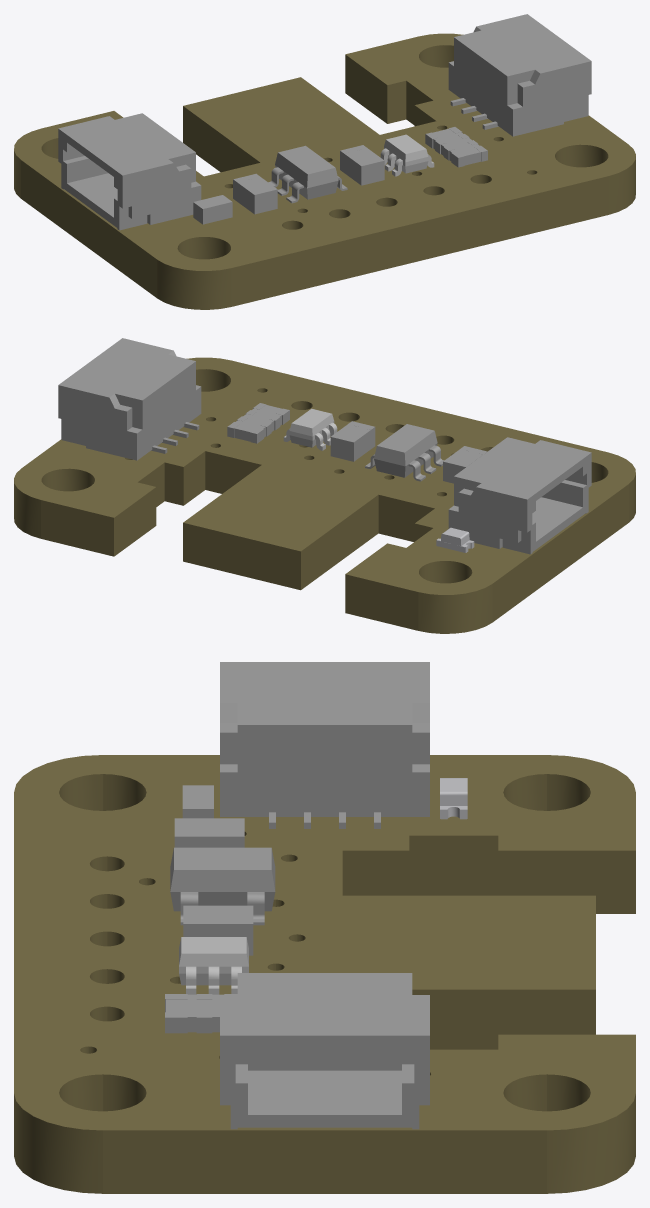
File: ada-4836.glb
3 views of the same model, one above another, from view 1: azimuth 30°, elevation 25°; view 2: azimuth 150°, elevation 25°; view 3: azimuth 270°, elevation 25° (orthographic). The views are drawn at different scales.
Visible parts, largest first — view 1: 0.16666666666666666_0.16666666666666666_0.08333333333333333_, 0.3333333333333333_0.3333333333333333_0.3333333333333333_0, 0.5_0.5_0.5_0.85; view 2: 0.16666666666666666_0.16666666666666666_0.08333333333333333_, 0.3333333333333333_0.3333333333333333_0.3333333333333333_0, 0.5_0.5_0.5_0.85, 0.5833333333333334_0.5833333333333334_0.5833333333333334_0.8; view 3: 0.16666666666666666_0.16666666666666666_0.08333333333333333_, 0.3333333333333333_0.3333333333333333_0.3333333333333333_0, 0.5_0.5_0.5_0.85, 0.5833333333333334_0.5833333333333334_0.5833333333333334_0.8.
Part boxes in pixels (<box>): 0.16666666666666666_0.16666666666666666_0.08333333333333333_: <box>14,33,635,309</box>; 0.3333333333333333_0.3333333333333333_0.3333333333333333_0: <box>58,14,591,230</box>; 0.5_0.5_0.5_0.85: <box>380,134,434,176</box>; 0.16666666666666666_0.16666666666666666_0.08333333333333333_: <box>14,357,635,633</box>; 0.3333333333333333_0.3333333333333333_0.3333333333333333_0: <box>58,338,591,554</box>; 0.5_0.5_0.5_0.85: <box>283,408,337,450</box>; 0.5833333333333334_0.5833333333333334_0.5833333333333334_0.8: <box>436,527,474,552</box>; 0.16666666666666666_0.16666666666666666_0.08333333333333333_: <box>14,755,635,1193</box>; 0.3333333333333333_0.3333333333333333_0.3333333333333333_0: <box>165,662,429,1129</box>; 0.5_0.5_0.5_0.85: <box>179,937,248,994</box>; 0.5833333333333334_0.5833333333333334_0.5833333333333334_0.8: <box>440,778,467,819</box>.
Bounding box in the file's own units: 2.54 × 0.4959 × 1.78.
